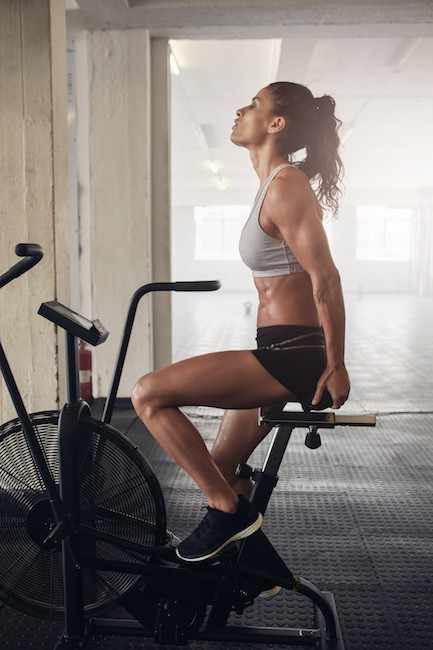gym_bike: (6, 240, 363, 640)
